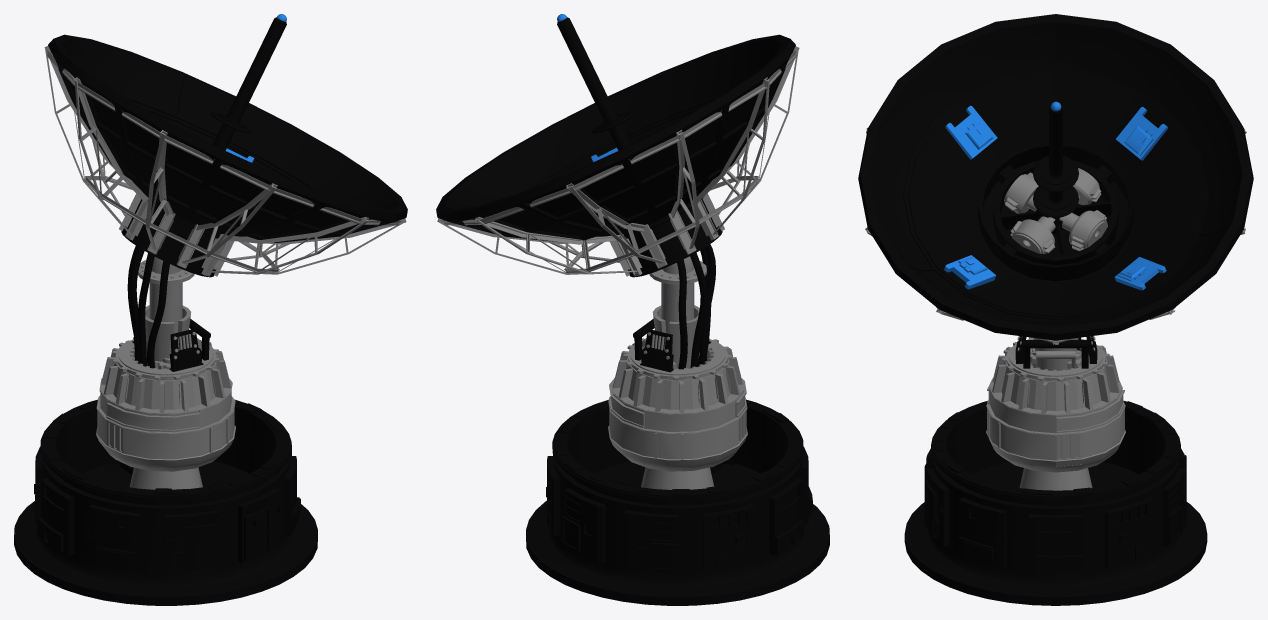
Rendered from satellite.glb.
The picture shows the model from 3 angles, left to right: view 1: azimuth 30°, elevation 25°; view 2: azimuth 150°, elevation 25°; view 3: azimuth 270°, elevation 25°; orthographic projection.
Parts seen in each view (by area): view 1: High_Poly_Base_Combine, Satelite_Main, Middle_Holder, pCylinder2, Satelite_Holding_Bars5, Satelite_Holding_Bars8, Satelite_Holding_Bars7, Satelite_Holding_Bars6, pCylinder59, Satelite_Holding_Bars4, pCylinder3, Satelite_Holding_Bars9 (+4 smaller); view 2: High_Poly_Base_Combine, Satelite_Main, Middle_Holder, pCylinder2, Satelite_Holding_Bars2, Satelite_Holding_Bars5, Satelite_Holding_Bars3, Satelite_Holding_Bars4, pCylinder59, Satelite_Holding_Bars6, pCylinder3, Satelite_Holding_Bars1 (+4 smaller); view 3: Satelite_Main, High_Poly_Base_Combine, Middle_Holder, pCylinder59, pCube64, pCube8, pCylinder21, pCylinder20, pCube65, pCylinder19, pCube66, pCylinder73 (+1 smaller).
Boxes of the visible parts, x1,y1,x2,y2 form: High_Poly_Base_Combine: (14,399,317,605); Satelite_Main: (48,17,407,277); Middle_Holder: (96,257,235,489); pCylinder2: (47,49,401,225); Satelite_Holding_Bars5: (73,77,148,240); Satelite_Holding_Bars8: (201,217,368,276); Satelite_Holding_Bars7: (176,183,277,268); Satelite_Holding_Bars6: (145,130,175,254); pCylinder59: (112,337,219,380); Satelite_Holding_Bars4: (44,46,141,230); pCylinder3: (84,176,279,273); Satelite_Holding_Bars9: (213,218,406,276); High_Poly_Base_Combine: (526,399,829,605); Satelite_Main: (436,17,795,277); Middle_Holder: (608,256,747,489); pCylinder2: (441,50,796,225); Satelite_Holding_Bars2: (474,217,642,276); Satelite_Holding_Bars5: (692,77,769,240); Satelite_Holding_Bars3: (566,183,667,268); Satelite_Holding_Bars4: (668,130,699,254); pCylinder59: (623,338,732,380); Satelite_Holding_Bars6: (702,46,799,230); pCylinder3: (564,176,759,273); Satelite_Holding_Bars1: (437,218,630,276); Satelite_Main: (858,14,1253,340); High_Poly_Base_Combine: (904,400,1207,605); Middle_Holder: (986,338,1125,490); pCylinder59: (1002,337,1109,381); pCube64: (945,105,997,159); pCube8: (1116,107,1167,160); pCylinder21: (1059,210,1107,250); pCylinder20: (1010,216,1055,254); pCube65: (944,255,996,289); pCylinder19: (1004,172,1038,213); pCube66: (1114,257,1166,290); pCylinder73: (1023,340,1088,368).
Bounding box in the file's own units: 1.92 × 2.66 × 1.92.
